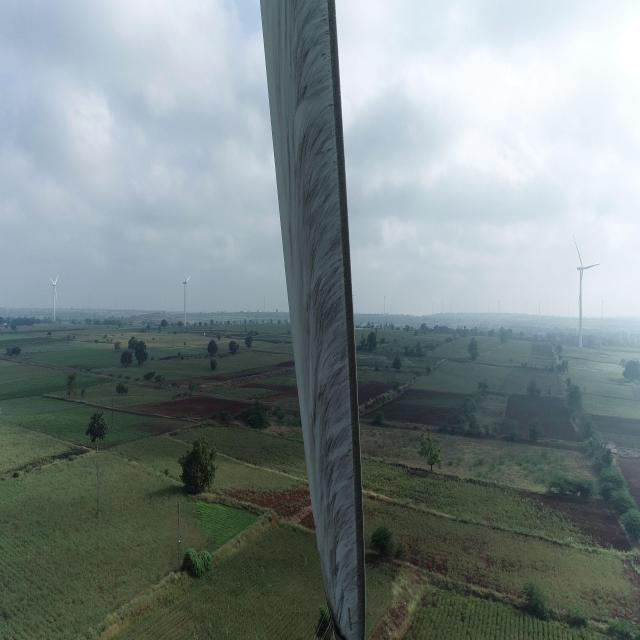Dirt: (262, 0, 366, 639)
